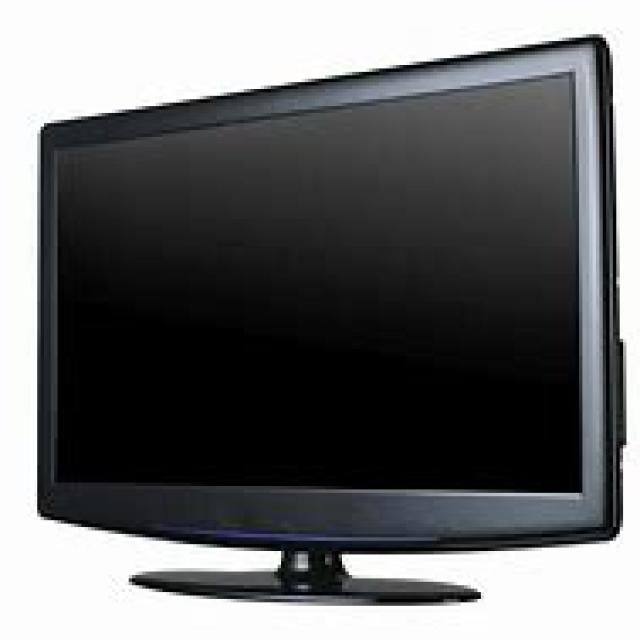tv: (34, 31, 626, 602)
